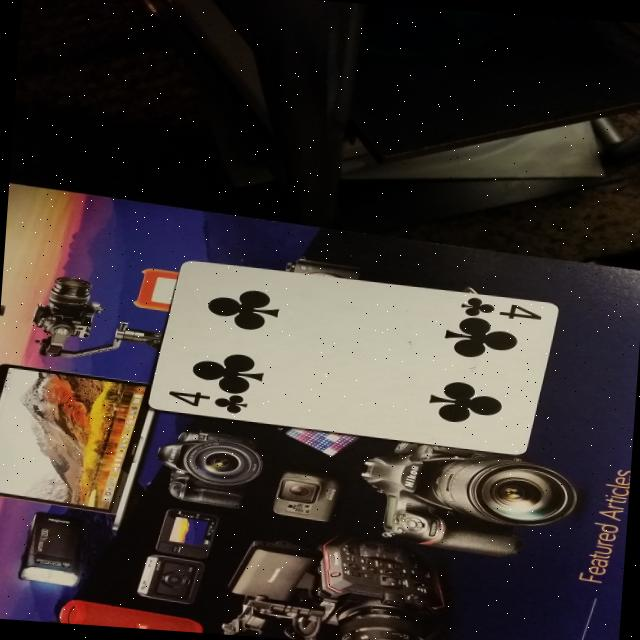4c: (148, 380, 260, 420), (448, 288, 552, 326)
